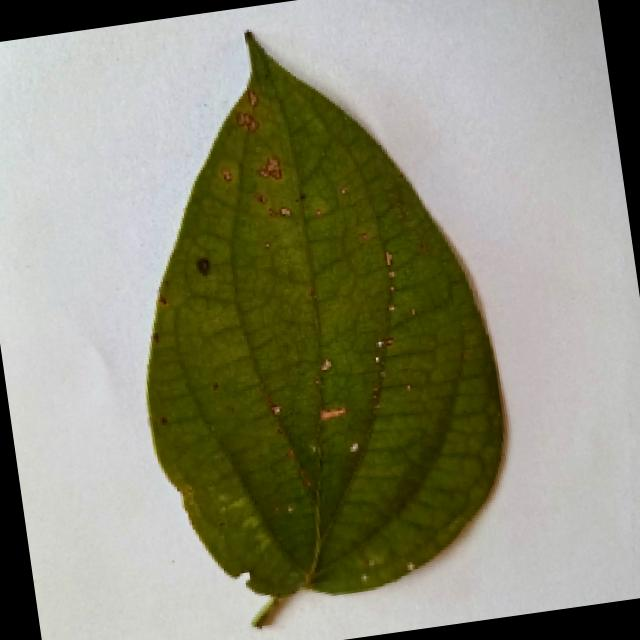pollu-disease: (76, 1, 551, 636)
